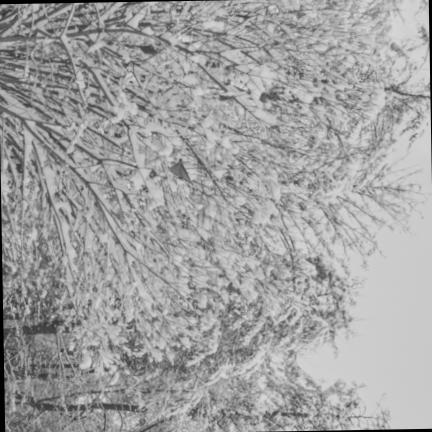Shahed: (169, 159, 191, 182)
